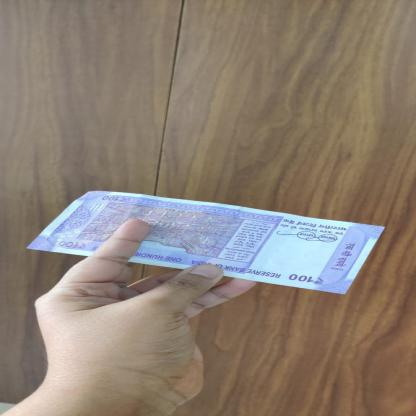New100Back: (21, 188, 388, 296)
